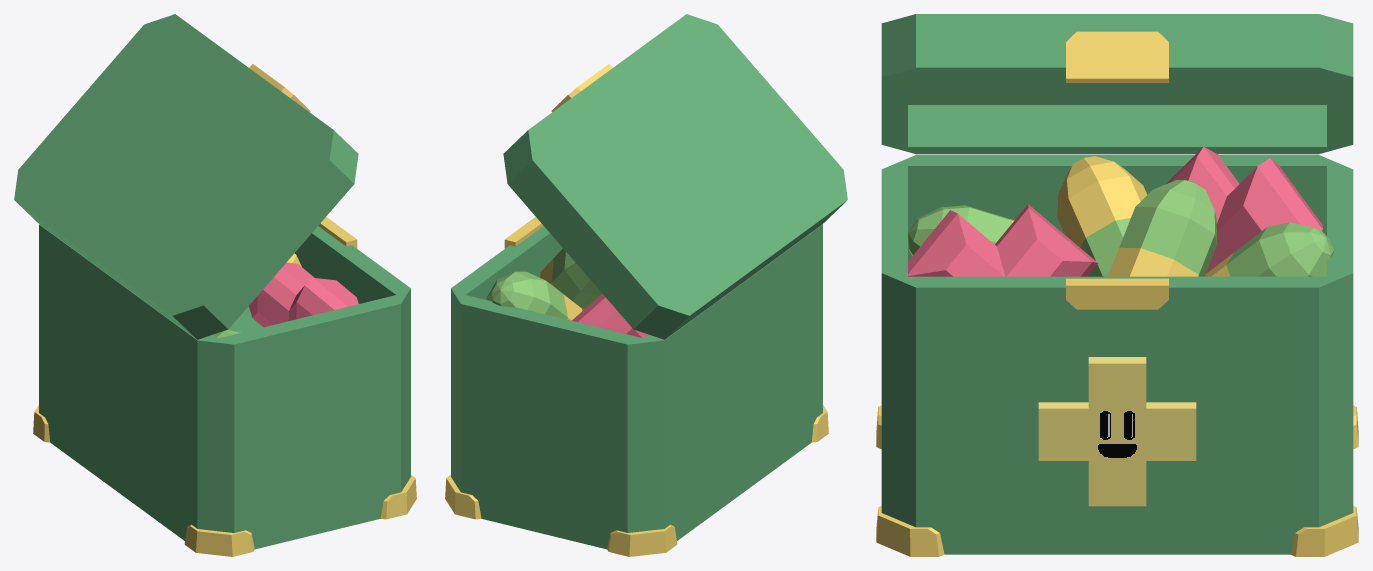
The model's file is health_pickup.glb.
3 renders of one model, left to right at view 1: azimuth 30°, elevation 25°; view 2: azimuth 150°, elevation 25°; view 3: azimuth 270°, elevation 25°, orthographic. The views are drawn at different scales.
Parts seen in each view (by area): view 1: caixa, tampa, pills; view 2: caixa, tampa, pills; view 3: caixa, tampa, pills.
Boxes of the visible parts, x1=… form: caixa: x1=33, y1=217, x2=416, y2=556; tampa: x1=14, y1=14, x2=358, y2=339; pills: x1=213, y1=253, x2=358, y2=338; caixa: x1=445, y1=217, x2=828, y2=556; tampa: x1=503, y1=14, x2=847, y2=339; pills: x1=486, y1=248, x2=648, y2=338; caixa: x1=876, y1=155, x2=1358, y2=556; tampa: x1=881, y1=14, x2=1353, y2=154; pills: x1=908, y1=147, x2=1333, y2=276.
Bounding box in the file's own units: 2.33 × 3.46 × 3.07.
5 materials, 1 textured.
